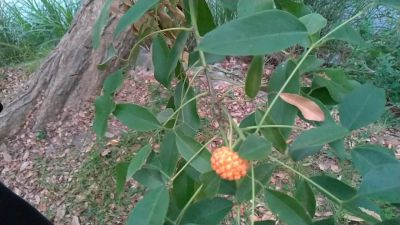eggs: (211, 146, 249, 178)
